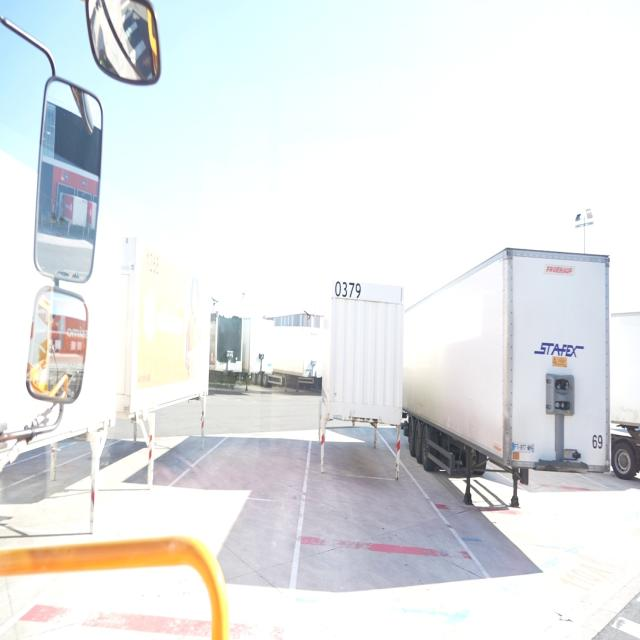Code: (331, 275, 364, 304)
